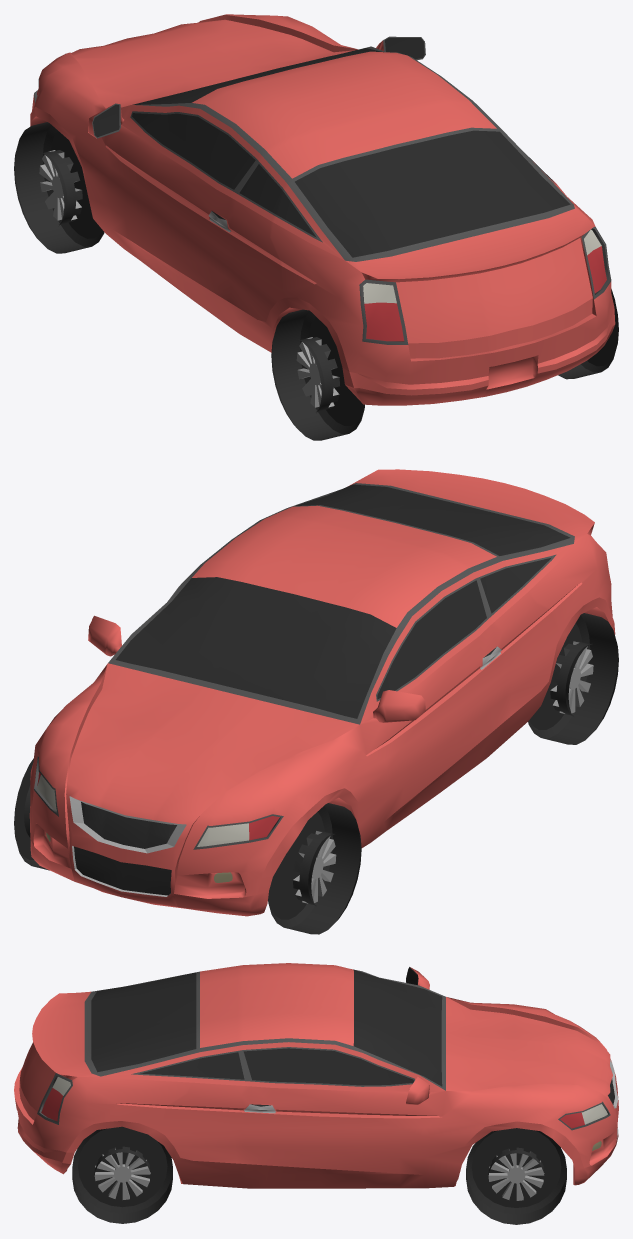
File: sedan.glb
3 views of the same model, one above another, from view 1: azimuth 30°, elevation 25°; view 2: azimuth 150°, elevation 25°; view 3: azimuth 270°, elevation 25° (orthographic). The views are drawn at different scales.
Visible parts, largest first — view 1: SedanBody, TireBackLeft, TireFrontLeft, TireBackRight; view 2: SedanBody, TireFrontLeft, TireBackLeft, TireFrontRight; view 3: SedanBody, TireFrontRight, TireBackRight.
Boxes of the visible parts, x1,y1,x2,y2 form: SedanBody: (30,14,615,405); TireBackLeft: (271,309,364,440); TireFrontLeft: (14,122,104,253); TireBackRight: (558,289,618,379); SedanBody: (29,469,615,916); TireFrontLeft: (268,803,361,934); TireBackLeft: (528,613,618,744); TireFrontRight: (14,758,49,870); SedanBody: (14,963,618,1188); TireFrontRight: (466,1128,566,1224); TireBackRight: (72,1126,172,1223).
Size of the model in its own units: 4.51 by 3.03 by 9.28.
